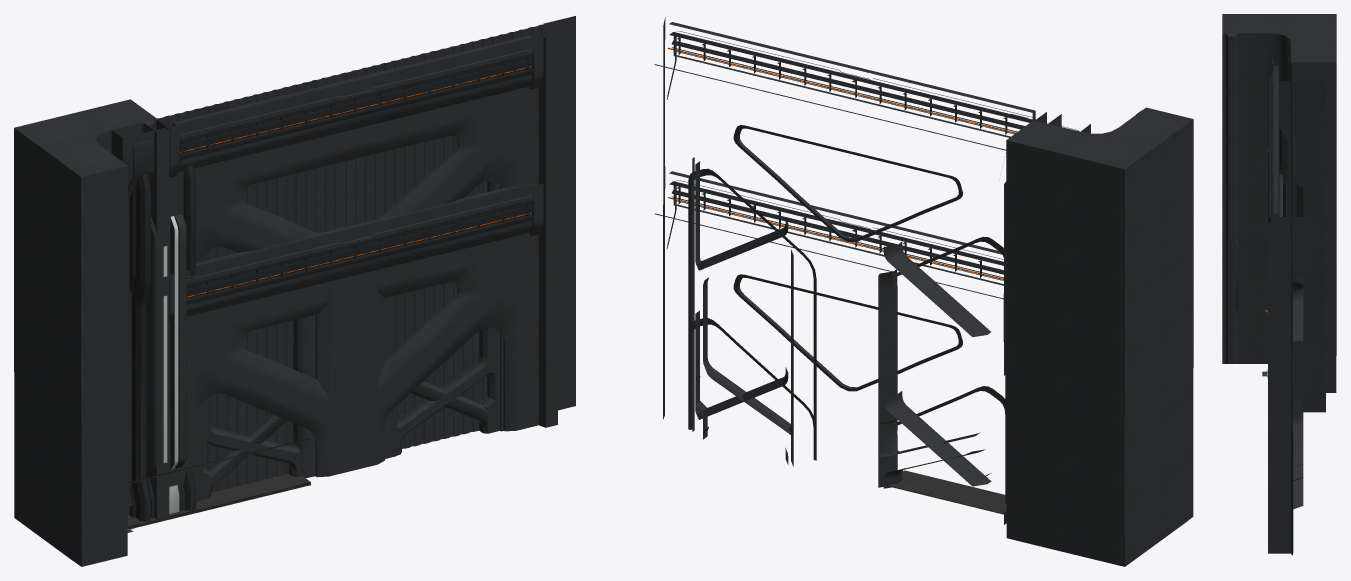
Rendered from medtop.glb.
3 renders of one model, left to right at view 1: azimuth 30°, elevation 25°; view 2: azimuth 150°, elevation 25°; view 3: azimuth 270°, elevation 25°, orthographic. The views are drawn at different scales.
Parts seen in each view (by area): view 1: wall, wall_upper, corner, rib, rim; view 2: corner, wall, wall_upper, rim, rib; view 3: corner, wall, rib, wall_upper.
Boxes of the visible parts, x1=… form: wall: x1=144, y1=16, x2=575, y2=519; wall_upper: x1=157, y1=162, x2=575, y2=503; corner: x1=14, y1=99, x2=157, y2=566; rib: x1=111, y1=116, x2=213, y2=521; rim: x1=127, y1=438, x2=310, y2=529; corner: x1=1006, y1=107, x2=1193, y2=566; wall: x1=654, y1=17, x2=1061, y2=488; wall_upper: x1=654, y1=166, x2=1006, y2=503; rim: x1=886, y1=470, x2=999, y2=508; rib: x1=1000, y1=114, x2=1090, y2=524; corner: x1=1222, y1=14, x2=1336, y2=392; wall: x1=1268, y1=61, x2=1322, y2=554; rib: x1=1268, y1=56, x2=1325, y2=412; wall_upper: x1=1268, y1=341, x2=1322, y2=554.
Size of the model in its own units: 46 by 32.23 by 10.
Materials: 24 (21 with a texture image).
